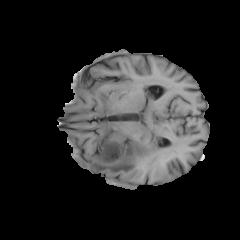glioma: (91, 133, 151, 175)
